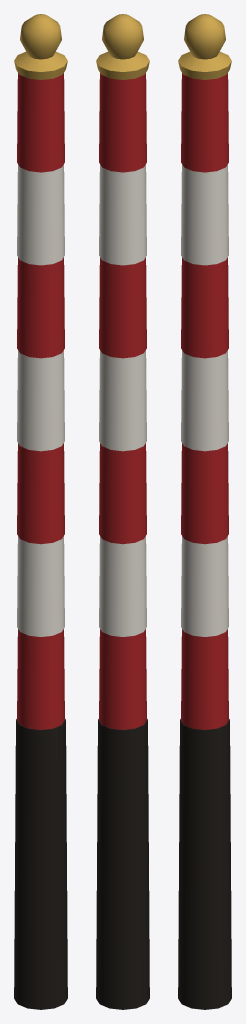
Rendered from palina.glb.
The picture shows the model from 3 angles, left to right: view 1: azimuth 30°, elevation 25°; view 2: azimuth 150°, elevation 25°; view 3: azimuth 330°, elevation 25°; orthographic projection.
Visible parts, largest first — view 1: tar0, white6, white4, red5, red3, red1, white2, red7, gilt8; view 2: tar0, white6, white4, red5, red3, red1, white2, red7, gilt8; view 3: tar0, white6, white4, red5, red3, red1, white2, red7, gilt8.
Part boxes in pixels (<box>): tar0: <box>14,719,67,1009</box>; white6: <box>17,164,64,265</box>; white4: <box>17,350,64,451</box>; red5: <box>17,257,64,358</box>; red3: <box>17,443,64,544</box>; red1: <box>17,629,64,729</box>; white2: <box>17,536,64,636</box>; red7: <box>17,73,64,172</box>; gilt8: <box>14,14,67,79</box>; tar0: <box>96,719,149,1009</box>; white6: <box>99,164,146,265</box>; white4: <box>99,350,146,451</box>; red5: <box>99,257,146,358</box>; red3: <box>99,443,146,544</box>; red1: <box>99,629,146,729</box>; white2: <box>99,536,146,636</box>; red7: <box>99,73,146,172</box>; gilt8: <box>96,14,149,79</box>; tar0: <box>178,719,231,1009</box>; white6: <box>181,164,228,265</box>; white4: <box>181,350,228,451</box>; red5: <box>181,257,228,358</box>; red3: <box>181,443,228,544</box>; red1: <box>181,629,228,729</box>; white2: <box>181,536,228,636</box>; red7: <box>181,73,228,172</box>; gilt8: <box>178,14,231,79</box>.
Bounding box in the file's own units: 0.28 × 5.64 × 0.28.
